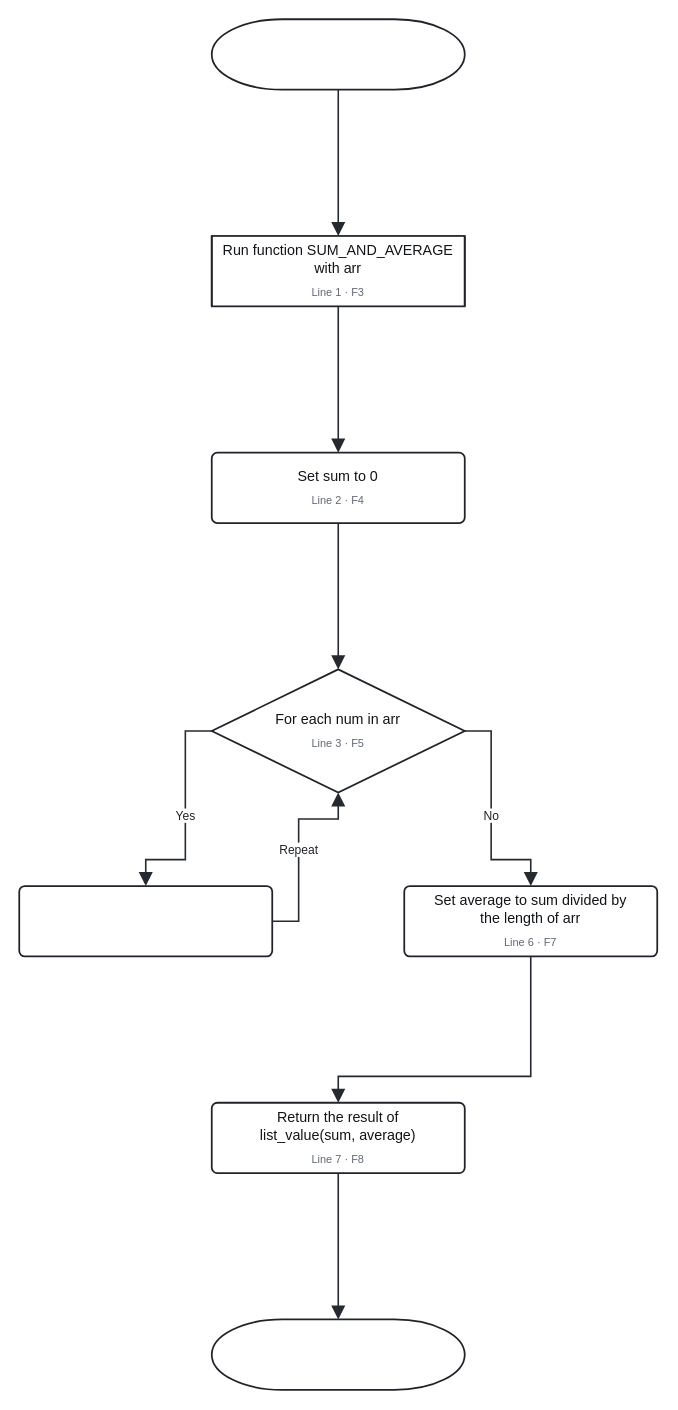
This 678x1410 diagram has some shape labels left out. The centre of each missing label's shape, as x and y in pixels:
"End Line 1 · F2" belongs at point (337, 1354).
"Set sum to sum plus num Line 4 · F6" belongs at point (145, 921).
"Start Line 1 · F1" belongs at point (337, 54).
